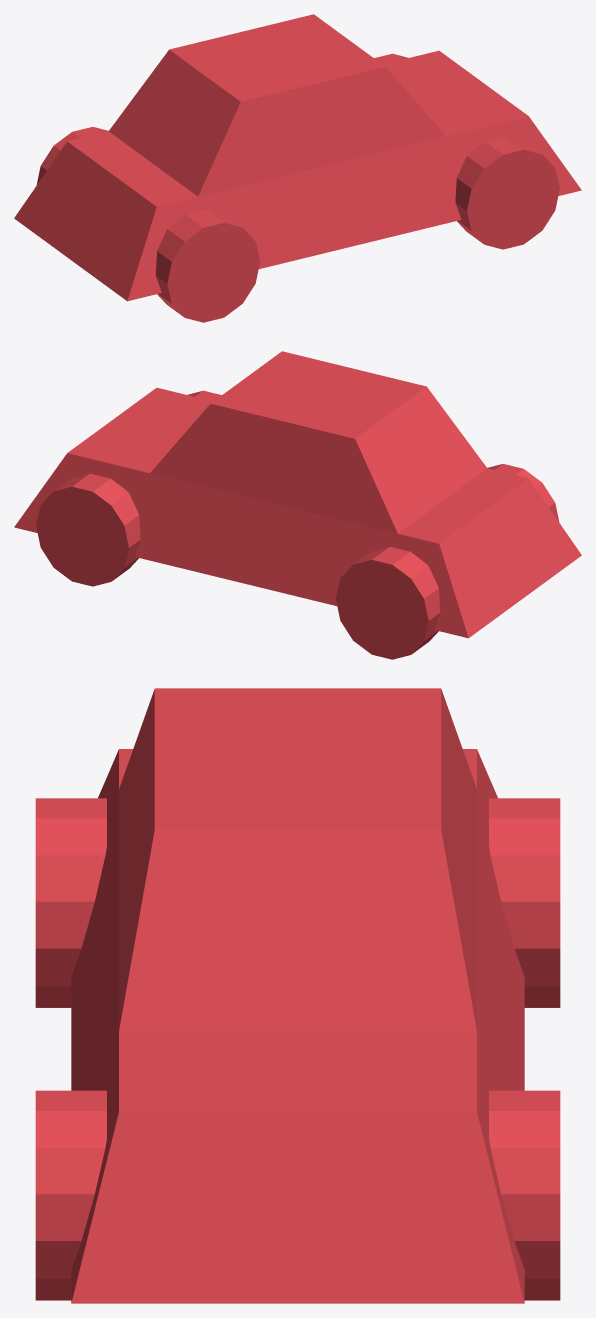
File: car.glb
3 renders of one model, top to bottom at view 1: azimuth 30°, elevation 25°; view 2: azimuth 150°, elevation 25°; view 3: azimuth 270°, elevation 25°, orthographic. The views are drawn at different scales.
Size of the model in its own units: 4.4 by 1.69 by 2.2.
